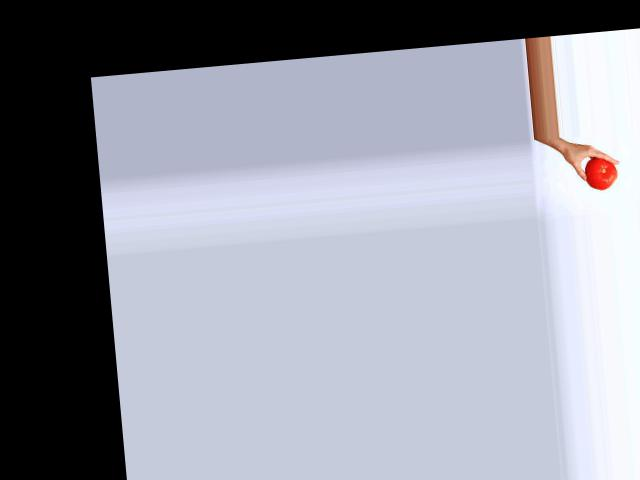tomato: (584, 156, 619, 190)
